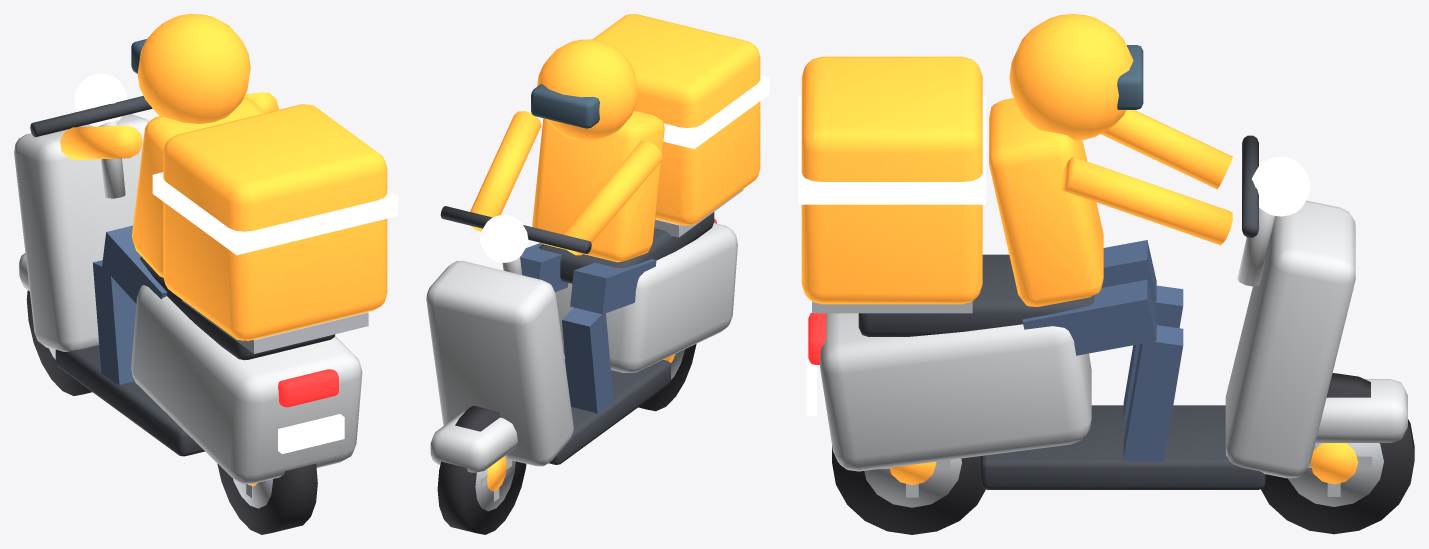
Rendered from delivery_swiggy.glb.
The picture shows the model from 3 angles, left to right: view 1: azimuth 30°, elevation 25°; view 2: azimuth 150°, elevation 25°; view 3: azimuth 270°, elevation 25°; orthographic projection. The views are drawn at different scales.
Visible parts, largest first — view 1: Scooter_Body, Wheel_Rear, Wheel_Front.001; view 2: Scooter_Body, Wheel_Front.001, Wheel_Rear; view 3: Scooter_Body, Wheel_Front.001, Wheel_Rear.
Boxes of the visible parts, box(x1,y1,x2,y2) form: Scooter_Body: box(14, 14, 397, 484); Wheel_Rear: box(217, 463, 317, 534); Wheel_Front.001: box(26, 290, 92, 395); Scooter_Body: box(426, 14, 769, 472); Wheel_Front.001: box(437, 405, 526, 534); Wheel_Rear: box(638, 344, 696, 411); Scooter_Body: box(798, 14, 1407, 489); Wheel_Front.001: box(1261, 373, 1414, 534); Wheel_Rear: box(832, 446, 985, 534).
Size of the model in its own units: 0.6364 by 1.67 by 1.84.
